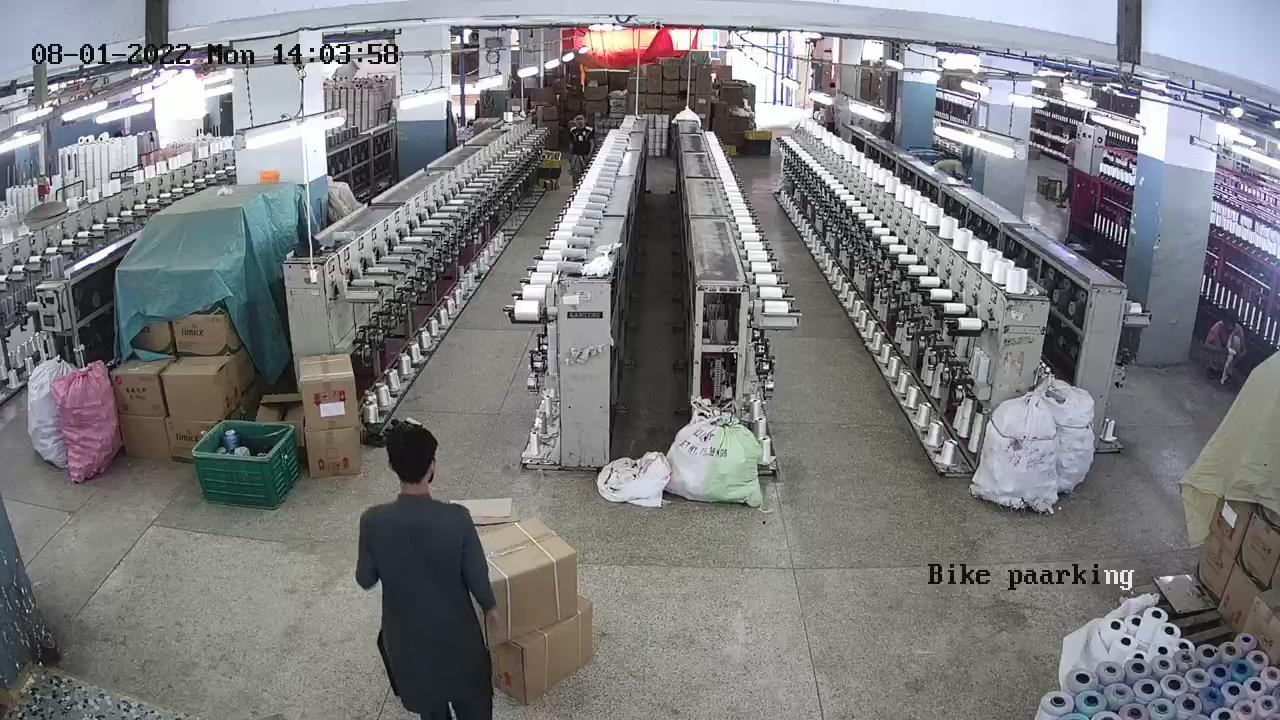person: (362, 415, 502, 720), (569, 105, 601, 177)
